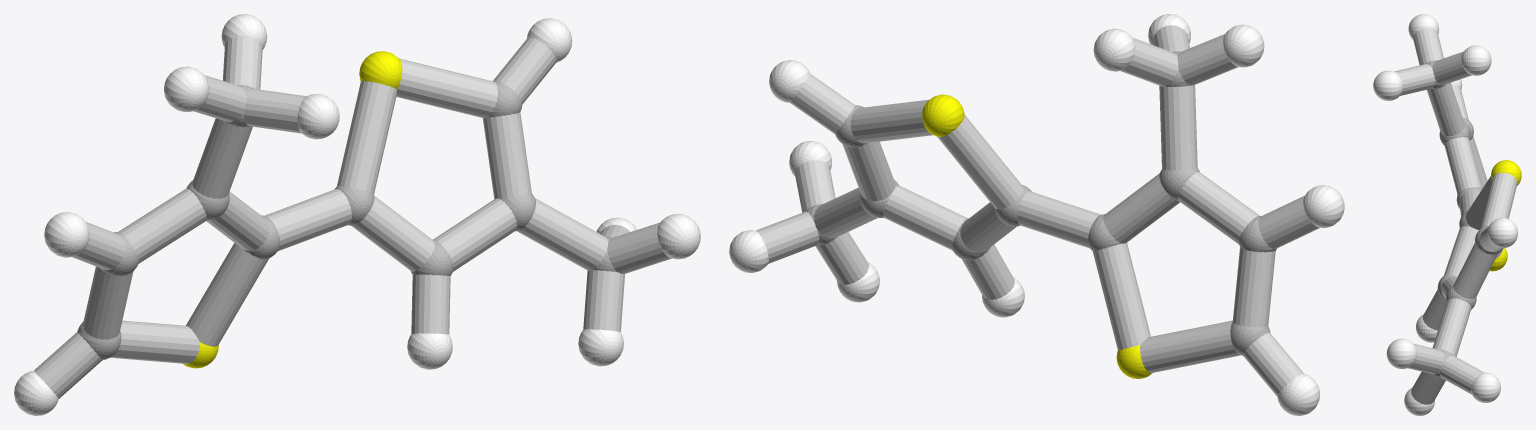
Rendered from color.glb.
3 renders of one model, left to right at view 1: azimuth 30°, elevation 25°; view 2: azimuth 150°, elevation 25°; view 3: azimuth 270°, elevation 25°, orthographic. The views are drawn at different scales.
Parts seen in each view (by area): view 1: grp7965, grp3621, grp1, grp7241; view 2: grp7965, grp3621, grp1, grp7241; view 3: grp7965, grp3621, grp1, grp7241.
Part boxes in pixels (x1,y1,x2,y2): grp7965: (34, 36, 671, 398); grp3621: (14, 14, 700, 415); grp1: (77, 80, 616, 359); grp7241: (183, 51, 402, 368); grp7965: (756, 25, 1319, 396); grp3621: (729, 14, 1344, 415); grp1: (805, 51, 1276, 355); grp7241: (922, 94, 1152, 378); grp7965: (1394, 28, 1517, 404); grp3621: (1373, 14, 1518, 415); grp1: (1425, 60, 1503, 378); grp7241: (1489, 160, 1521, 271).
Size of the model in its own units: 9.41 by 5.71 by 2.9.
